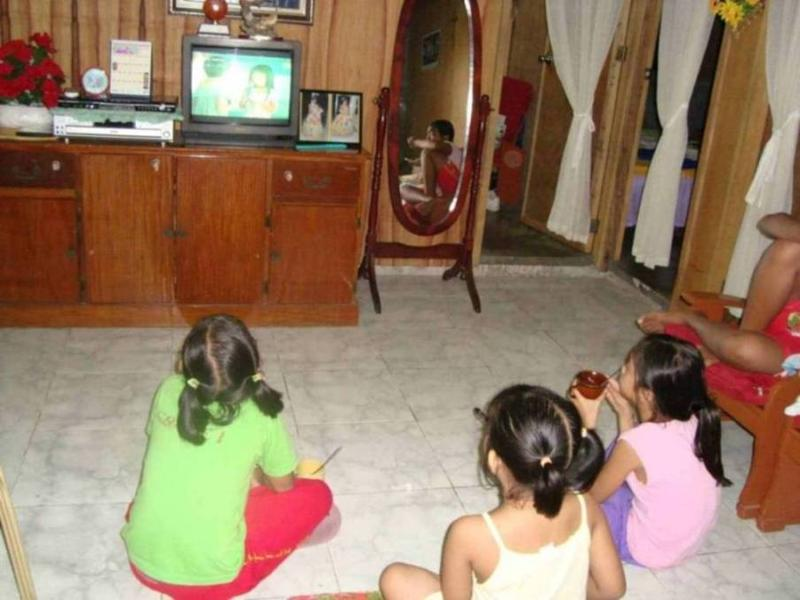person: (119, 315, 335, 600)
